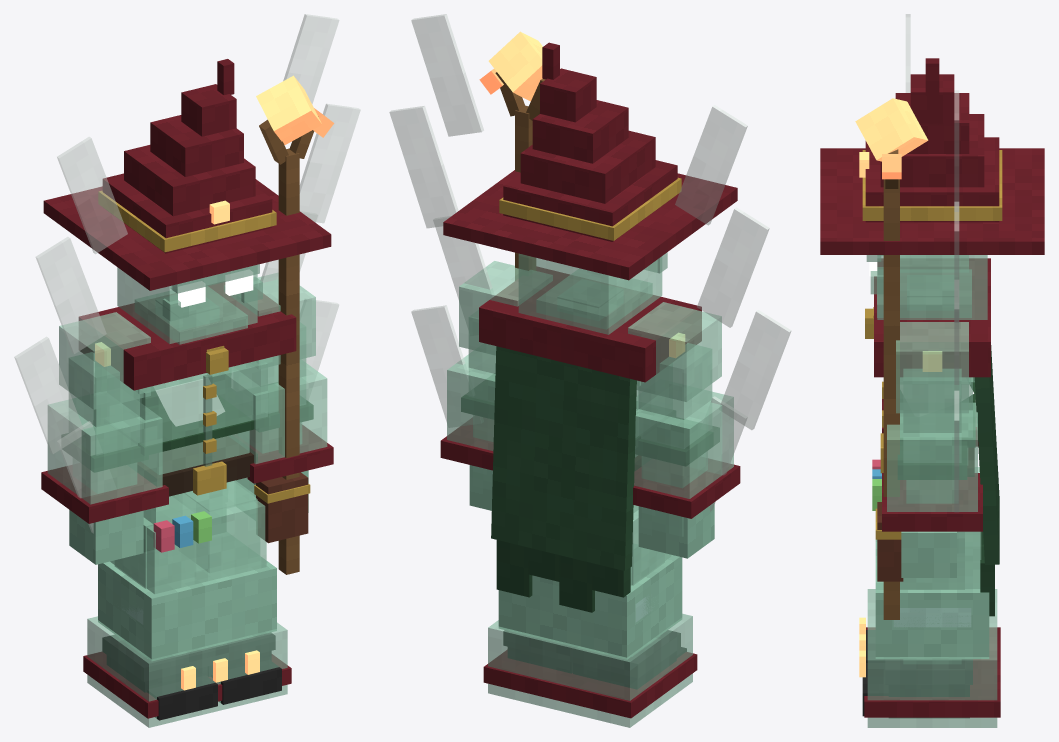
The model's file is spirit_mage.glb.
The picture shows the model from 3 angles, left to right: view 1: azimuth 30°, elevation 25°; view 2: azimuth 150°, elevation 25°; view 3: azimuth 270°, elevation 25°; orthographic projection. The views are drawn at different scales.
Visible parts, largest first — view 1: Torso, Head, Root, ArmR, ArmL, HandL, LegR, LegL; view 2: Torso, Head, Root, ArmR, ArmL, LegR, HandL, LegL; view 3: Head, Root, ArmL, Torso, HandL, LegL, ArmR.
Part boxes in pixels (x1,y1,x2,y2): Torso: (14, 14, 360, 552); Head: (43, 59, 331, 344); Root: (83, 493, 291, 727); ArmR: (41, 312, 168, 564); ArmL: (213, 273, 333, 512); HandL: (256, 75, 334, 574); LegR: (102, 496, 217, 720); LegL: (184, 481, 281, 704); Torso: (389, 14, 791, 612); Head: (443, 42, 737, 334); Root: (483, 511, 697, 727); ArmR: (628, 302, 740, 558); ArmL: (440, 261, 552, 510); LegR: (573, 505, 686, 689); HandL: (479, 31, 545, 280); LegL: (503, 630, 573, 673); Head: (820, 58, 1044, 319); Root: (859, 467, 1000, 727); ArmL: (882, 322, 982, 577); Torso: (865, 14, 999, 616); HandL: (855, 98, 928, 619); LegL: (862, 531, 972, 716); ArmR: (882, 255, 978, 446).
Bounding box in the file's own units: 1.38 × 2.27 × 0.69.
29 materials, 29 textured.
